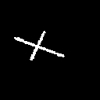single_crochet: (14, 31, 63, 59)
